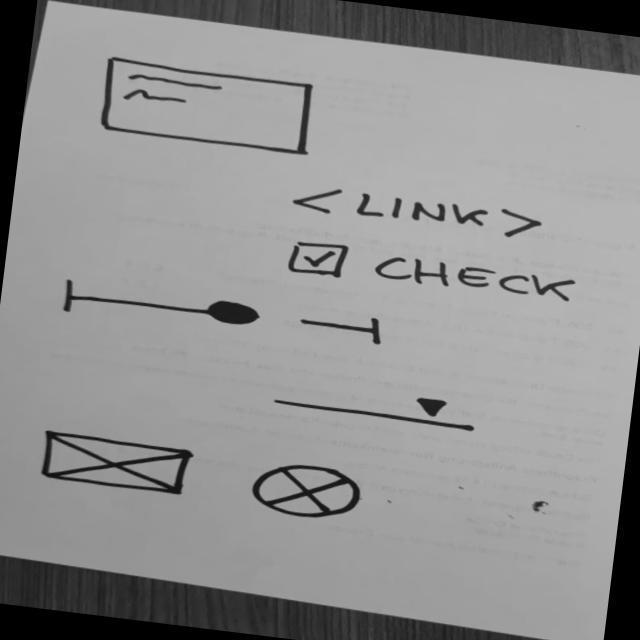checkbox: (281, 236, 581, 311)
image: (34, 428, 201, 501), (247, 457, 368, 526)
link: (285, 178, 550, 247)
select: (268, 376, 483, 437)
slider: (53, 277, 393, 354)
textarea: (95, 54, 323, 159)
